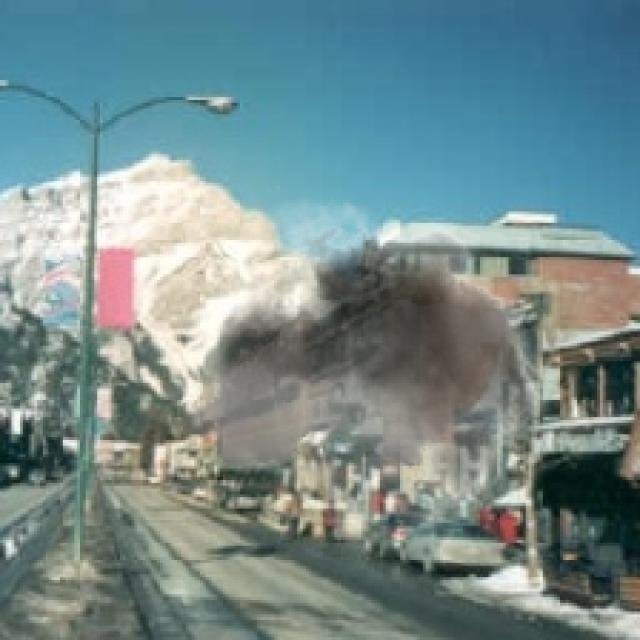smoke: (177, 180, 569, 571)
